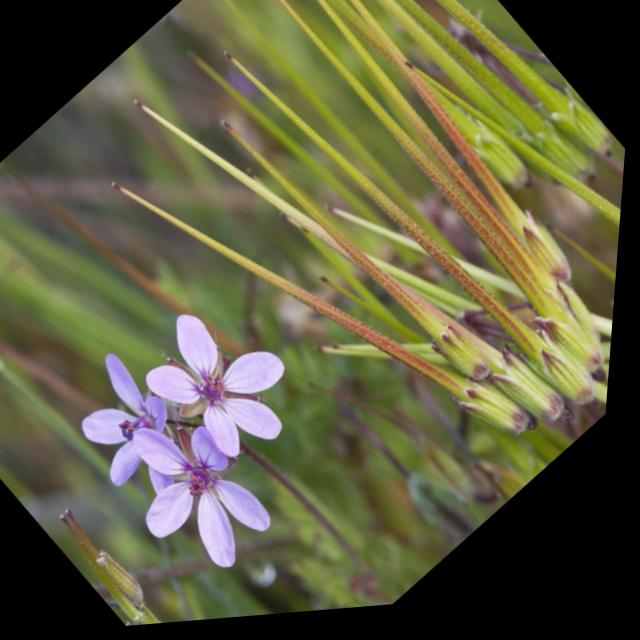Flower: (86, 378, 312, 612), (138, 289, 336, 493), (29, 334, 223, 535)
